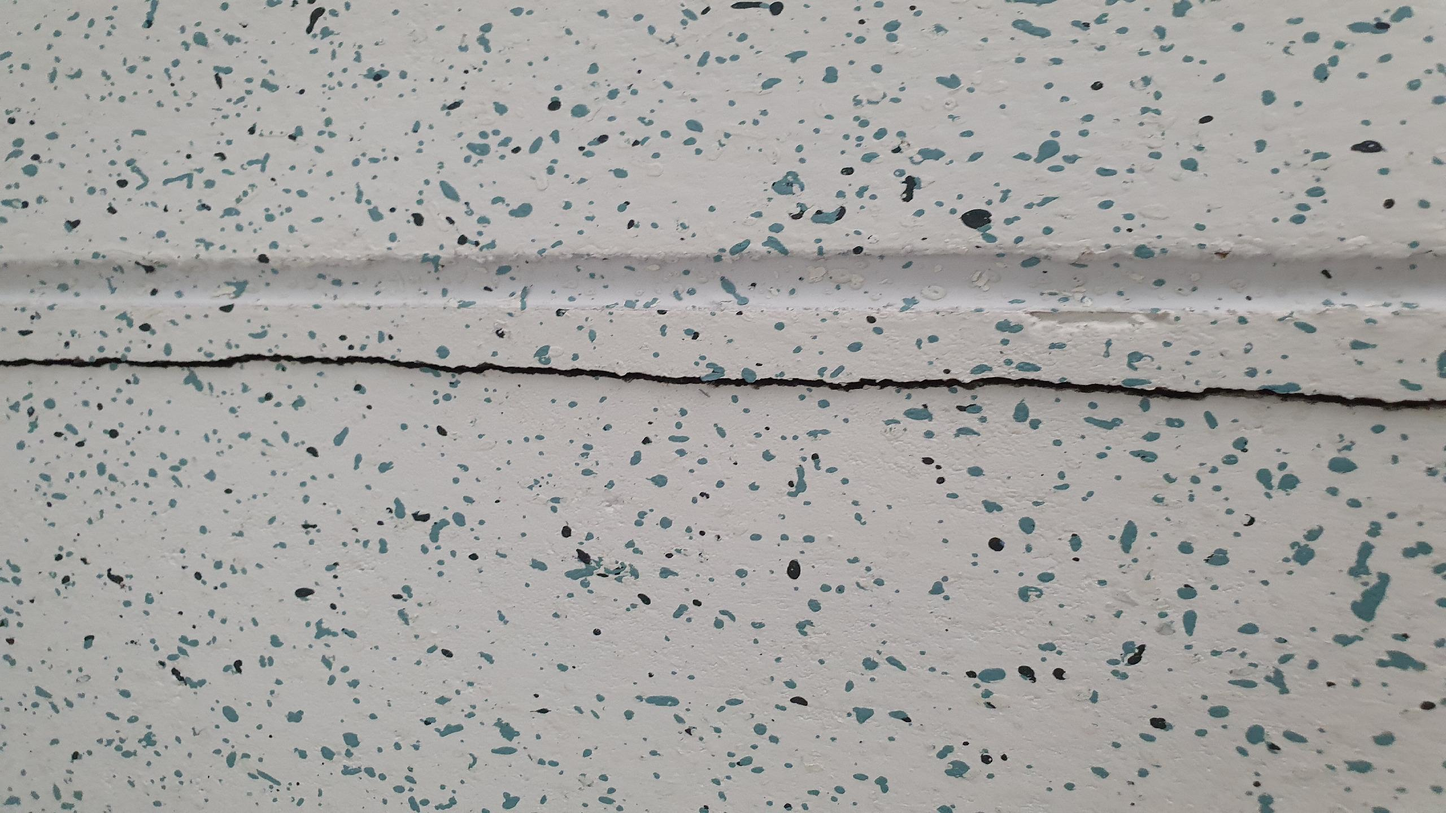crack: (1, 352, 1443, 414)
